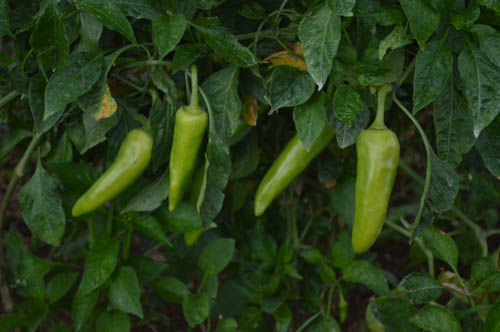ChiliPepper: (254, 115, 336, 220), (67, 129, 152, 215), (352, 125, 404, 258), (164, 108, 208, 214)
